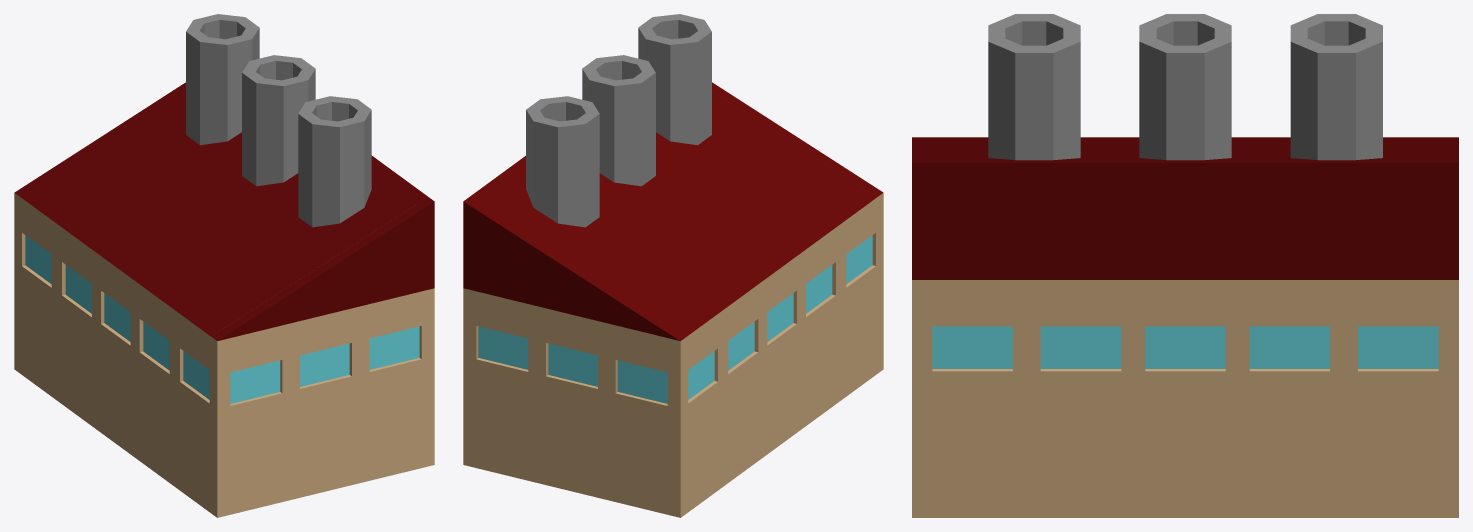
Rendered from Workhouse.fbx.
The picture shows the model from 3 angles, left to right: view 1: azimuth 30°, elevation 25°; view 2: azimuth 150°, elevation 25°; view 3: azimuth 270°, elevation 25°; orthographic projection. The views are drawn at different scales.
Visible parts, largest first — view 1: Model; view 2: Model; view 3: Model.
Boxes of the visible parts, x1=… form: Model: x1=14, y1=14, x2=434, y2=517; Model: x1=463, y1=14, x2=883, y2=517; Model: x1=912, y1=14, x2=1458, y2=517.
Size of the model in its own units: 99.25 by 145 by 161.
